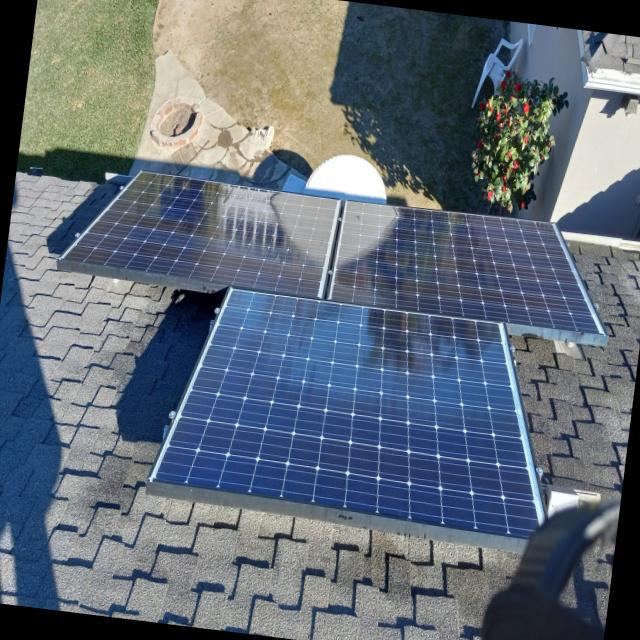no faulty: (68, 179, 596, 531)
